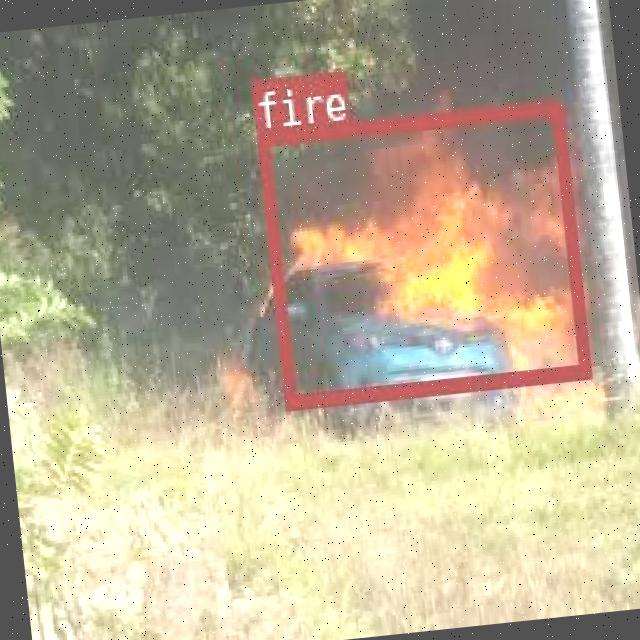fire: (254, 98, 589, 408)
